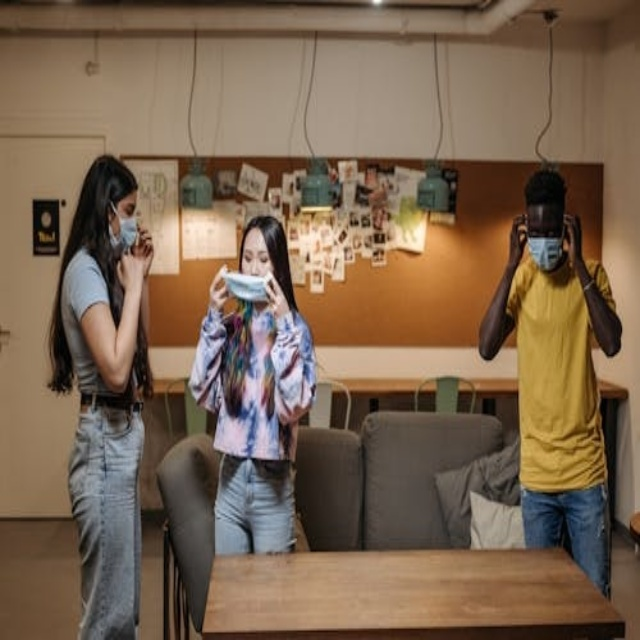Mascara: (526, 234, 564, 274), (109, 224, 142, 257)
Sin_gafas: (242, 249, 272, 270), (116, 202, 137, 220)
Sin_guantes: (111, 253, 150, 295), (260, 272, 291, 324), (207, 263, 234, 316), (507, 211, 531, 259), (562, 213, 583, 262), (142, 228, 157, 280)
